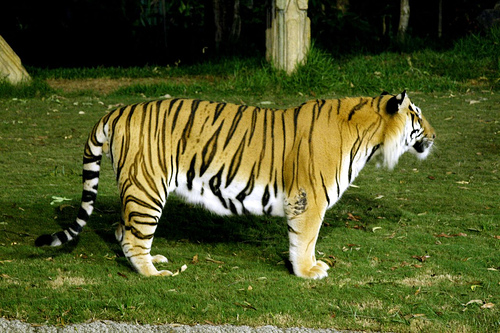Tigre: (49, 79, 442, 285)
